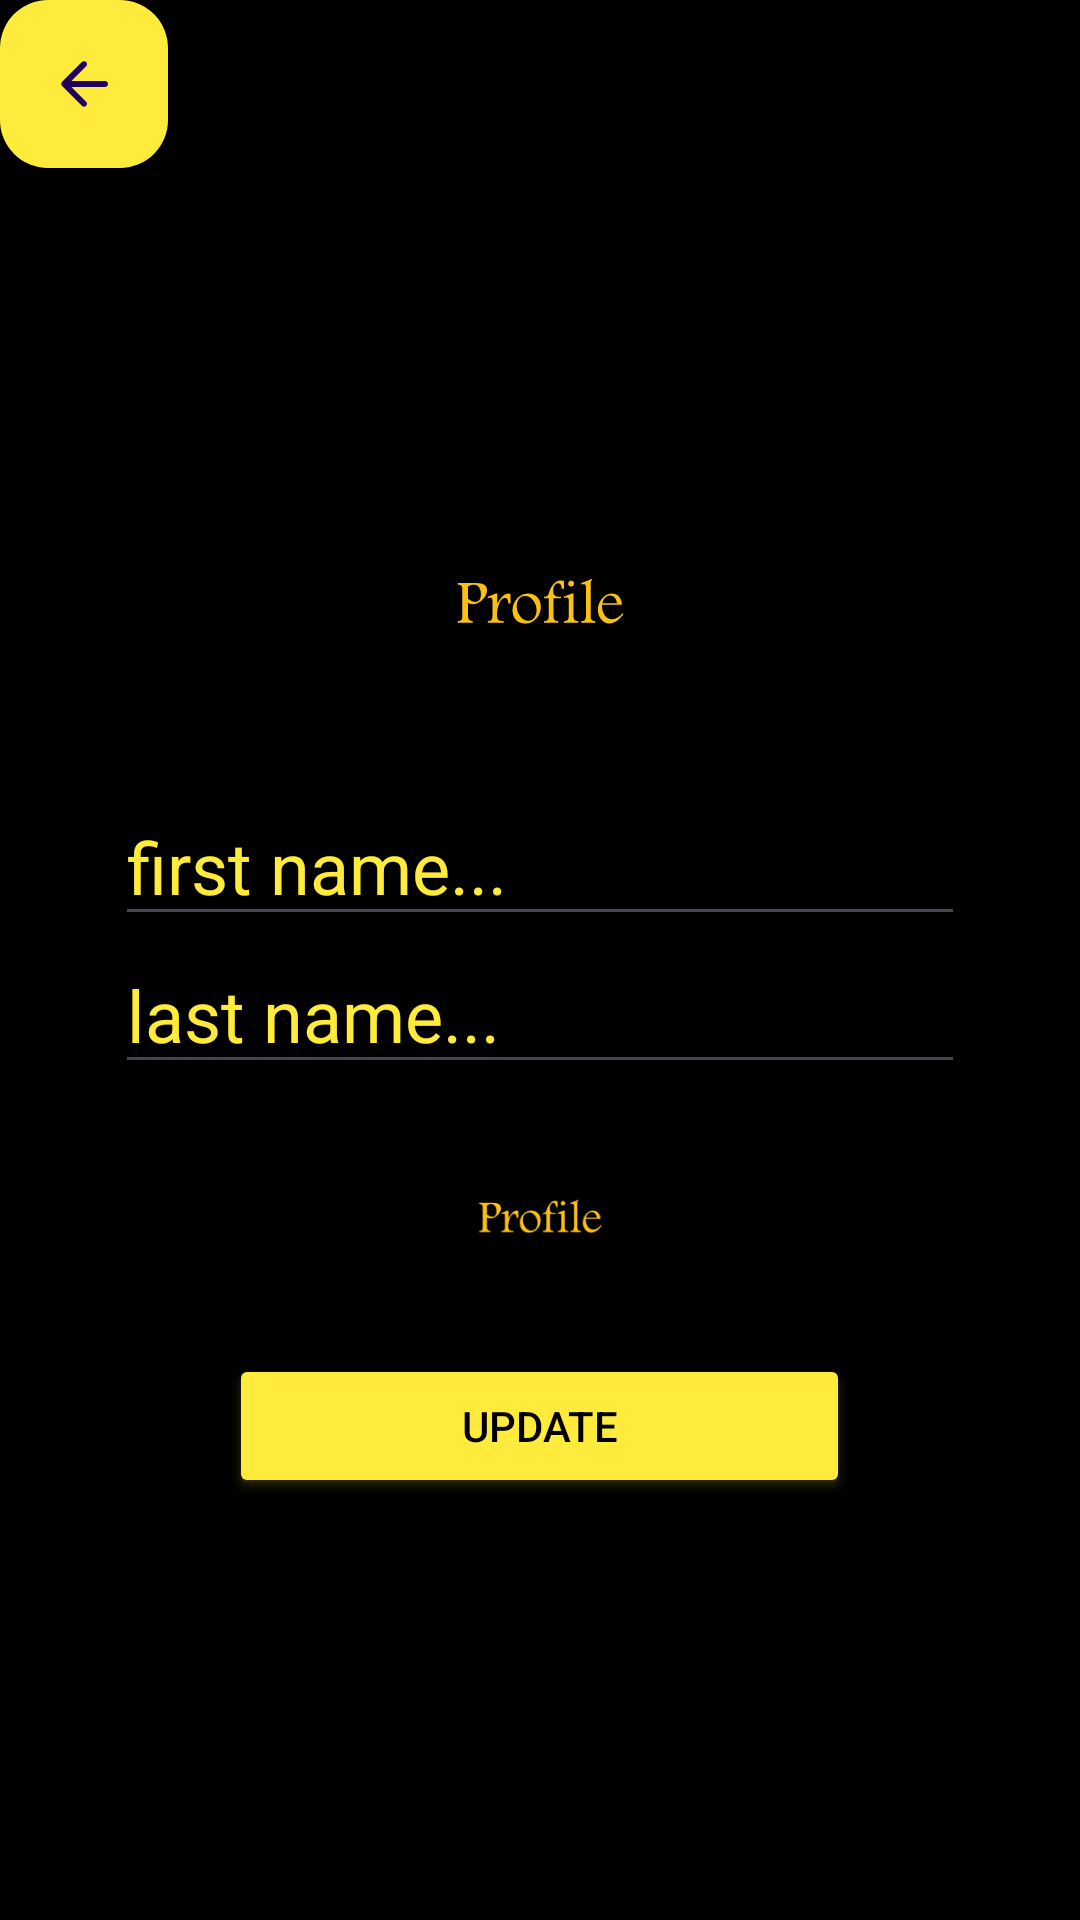

Icon bounding boxes for this 1080x1920 phone screenshot, format {"left": x1, "top": y1, "right": x2, "bottom": y2}:
arrow back: {"left": 0, "top": 0, "right": 168, "bottom": 168}
